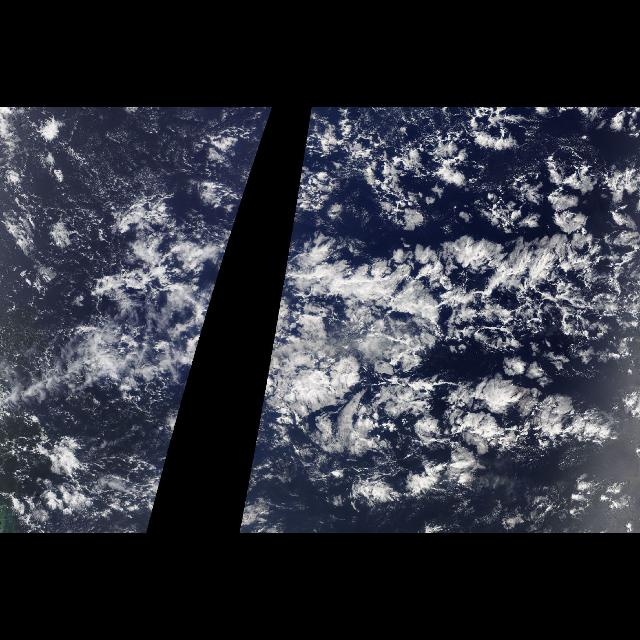Fish: (247, 206, 637, 480), (96, 206, 240, 480)
Gravel: (292, 108, 478, 208), (241, 108, 273, 202)
